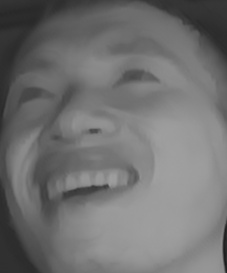eye: (112, 64, 164, 91), (12, 84, 54, 106)
mouth: (33, 151, 140, 221)
